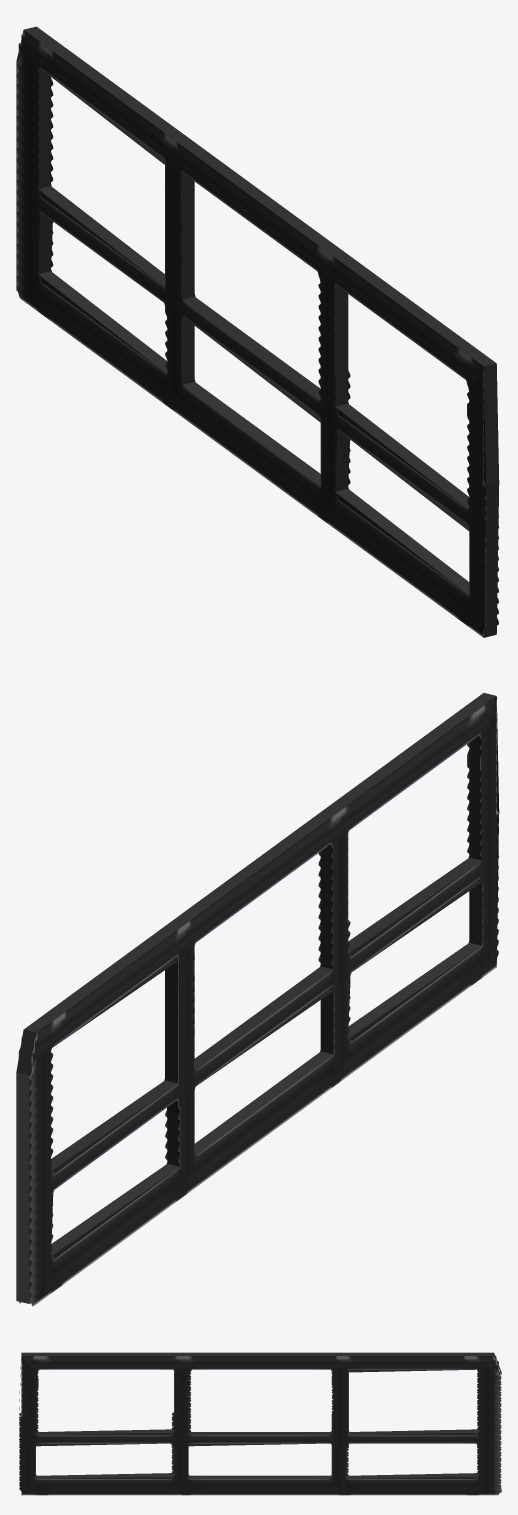
Rendered from pz_native_fixtures_windows_metal_20_frame.obj.
3 views of the same model, one above another, from view 1: azimuth 30°, elevation 25°; view 2: azimuth 150°, elevation 25°; view 3: azimuth 270°, elevation 25° (orthographic). The views are drawn at different scales.
Parts seen in each view (by area): view 1: pz_native_fixtures_windows_metal_20_frame; view 2: pz_native_fixtures_windows_metal_20_frame; view 3: pz_native_fixtures_windows_metal_20_frame.
Boxes of the visible parts, x1,y1,x2,y2 form: pz_native_fixtures_windows_metal_20_frame: [16, 26, 499, 637]; pz_native_fixtures_windows_metal_20_frame: [16, 693, 499, 1306]; pz_native_fixtures_windows_metal_20_frame: [19, 1352, 501, 1495].
Size of the model in its own units: 0.04 by 0.8438 by 2.54.
Materials: 1 (1 with a texture image).
